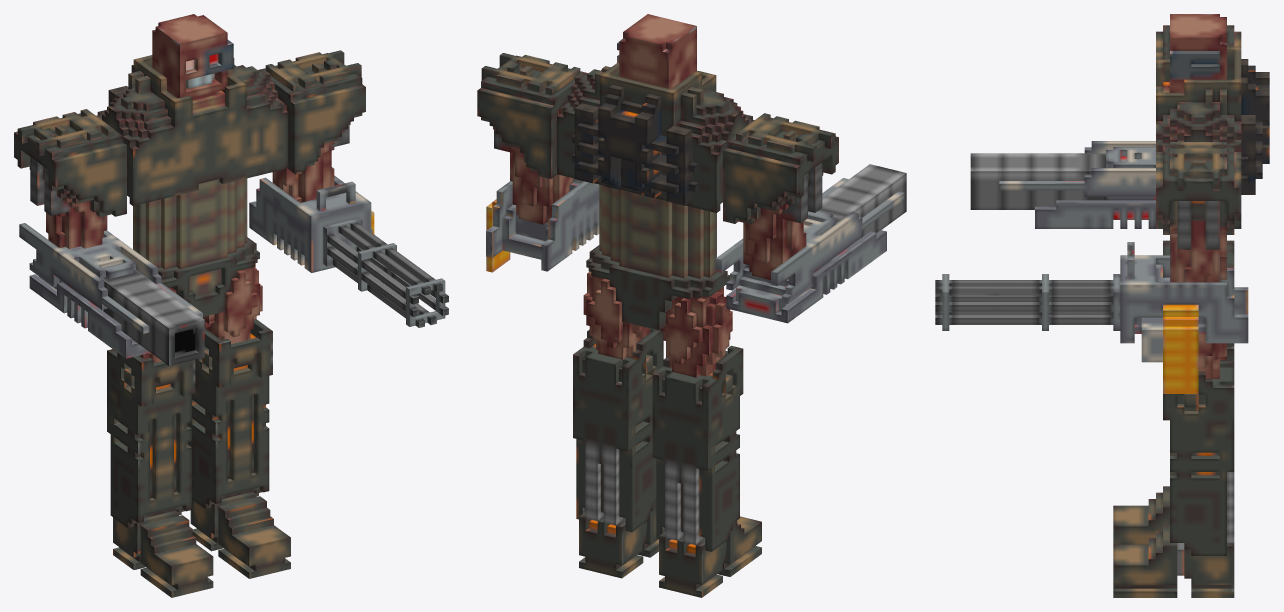
File: boss2.fbx
3 views of the same model, side by side, from view 1: azimuth 30°, elevation 25°; view 2: azimuth 150°, elevation 25°; view 3: azimuth 270°, elevation 25° (orthographic). The views are drawn at different scales.
Visible parts, largest first — view 1: body, blaster_R, leg_R_lower, leg_L_lower, hand_R_upper, hand_L_upper, tummy, blaster_L_spinning, blaster_L_main, leg_R_foot, leg_L_foot, head (+2 smaller); view 2: leg_R_lower, leg_L_lower, blaster_R, hand_R_upper, hand_L_upper, powerpack, body, tummy, blaster_L_main, leg_R_foot, head, leg_R_upper (+3 smaller); view 3: blaster_R, blaster_L_main, leg_L_lower, hand_L_upper, blaster_L_spinning, body, leg_L_foot, head, powerpack, leg_R_foot, leg_L_upper, hand_R_upper.
Boxes of the visible parts, x1,y1,x2,y2 form: body: (96,55,288,205); blaster_R: (19,223,204,365); leg_R_lower: (107,349,195,527); leg_L_lower: (188,319,272,508); hand_R_upper: (14,109,126,248); hand_L_upper: (258,50,365,202); tummy: (133,178,247,269); blaster_L_spinning: (323,218,448,327); blaster_L_main: (249,175,374,272); leg_R_foot: (113,510,213,597); leg_L_foot: (190,491,290,578); head: (152,14,233,98); leg_R_lower: (652,345,743,551); leg_L_lower: (573,328,663,532); blaster_R: (715,164,906,323); hand_R_upper: (723,113,838,280); hand_L_upper: (477,53,588,224); powerpack: (572,85,698,205); body: (557,63,754,212); tummy: (599,184,716,278); blaster_L_main: (486,178,599,272); leg_R_foot: (659,516,761,597); head: (617,14,696,89); leg_R_upper: (660,286,732,377); blaster_R: (970,141,1155,228); blaster_L_main: (1120,242,1248,393); leg_L_lower: (1163,361,1234,555); hand_L_upper: (1156,142,1241,282); blaster_L_spinning: (935,274,1120,330); body: (1156,46,1241,151); leg_L_foot: (1113,525,1234,597); head: (1170,14,1226,92); powerpack: (1241,59,1269,194); leg_R_foot: (1113,486,1169,544); leg_L_upper: (1198,334,1226,378); hand_R_upper: (1156,25,1241,59).
Size of the model in its own units: 550 by 840 by 470.
Materials: 1 (1 with a texture image).
